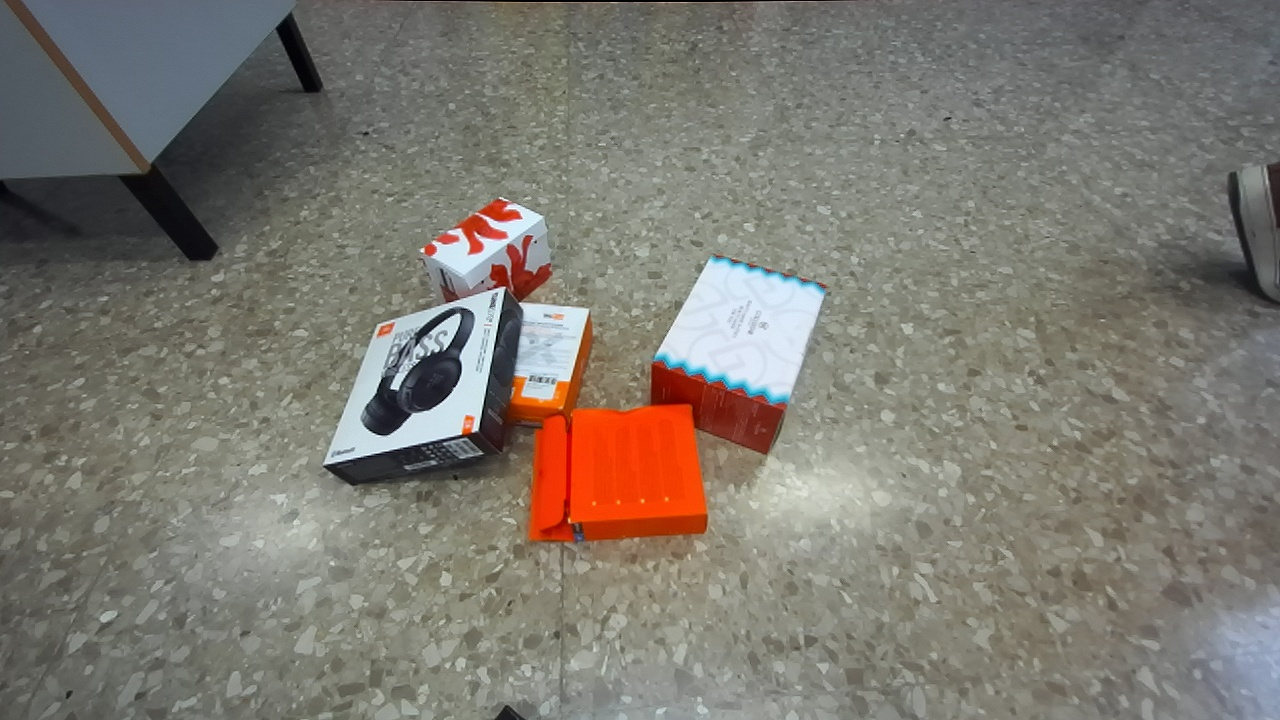caja_busbar: (650, 256, 826, 452)
caja_chasis: (324, 288, 522, 484)
caja_manguera: (529, 405, 706, 541)
caja_pcb: (507, 304, 592, 425)
caja_potencia: (422, 197, 551, 302)
